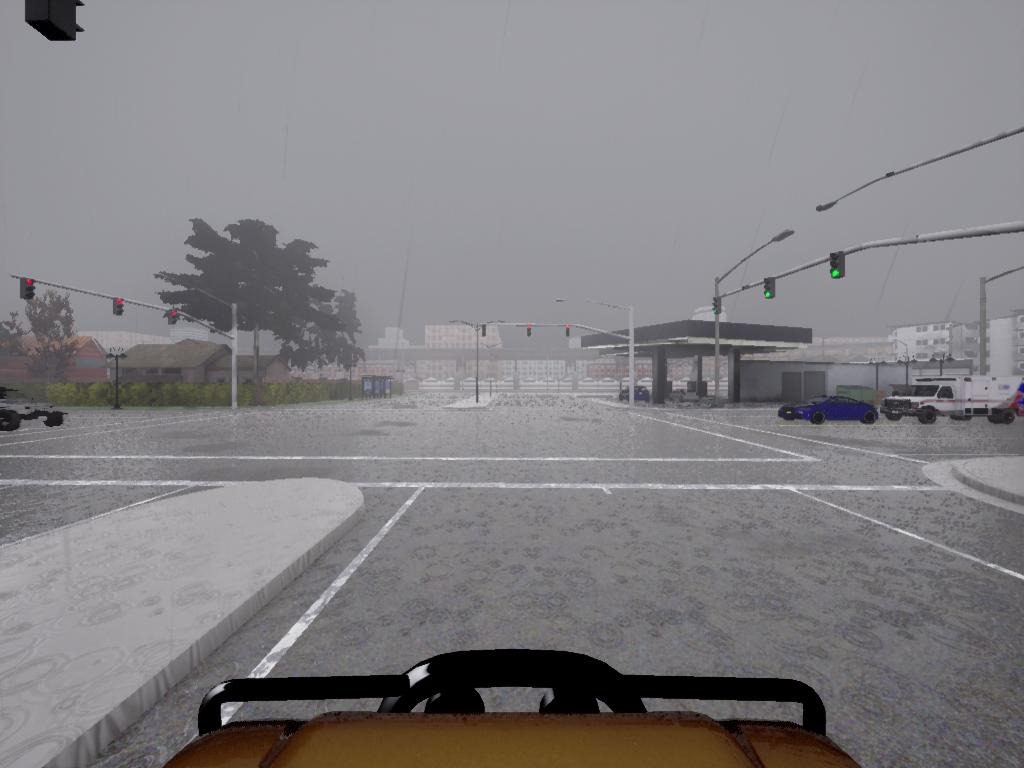traffic_light: (27, 1, 86, 41), (828, 256, 846, 281), (23, 278, 37, 302), (763, 279, 776, 301), (113, 299, 124, 319), (166, 310, 179, 326), (712, 299, 723, 315), (528, 326, 535, 337), (566, 325, 571, 339), (483, 325, 487, 339)
